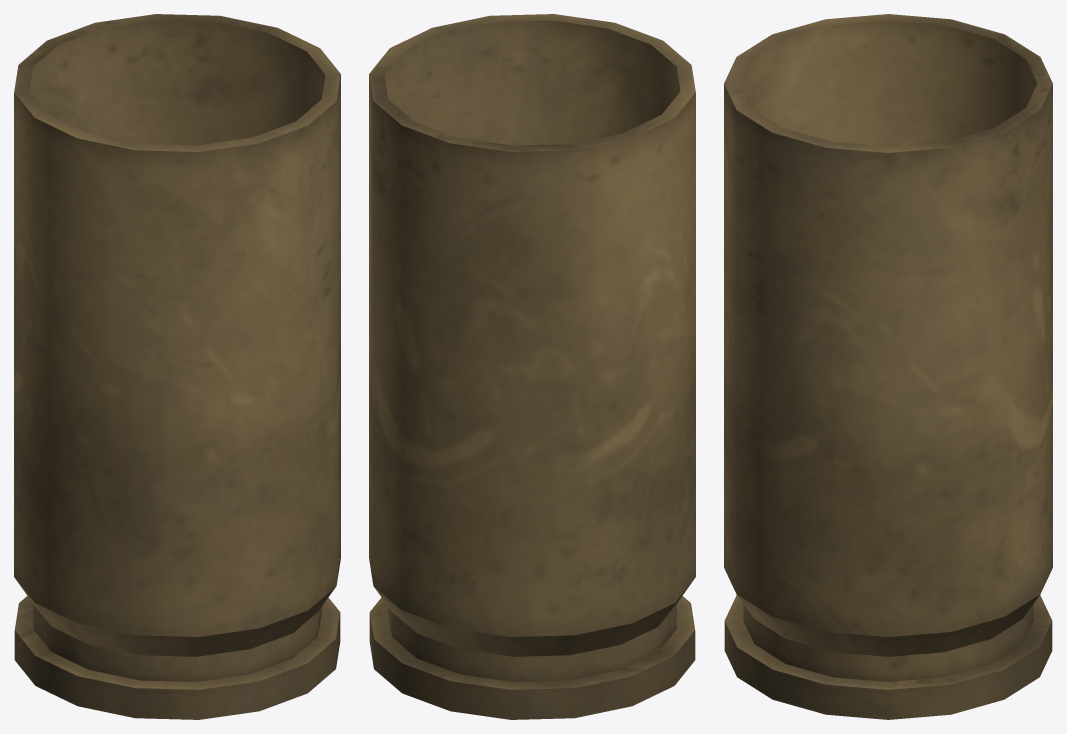
File: 9x19mm FMJ M882(used).glb
3 views of the same model, side by side, from view 1: azimuth 30°, elevation 25°; view 2: azimuth 150°, elevation 25°; view 3: azimuth 270°, elevation 25° (orthographic).
Visible parts, largest first — view 1: 9mm; view 2: 9mm; view 3: 9mm.
Boxes of the visible parts, <box> form: 9mm: <box>14,14,340,719</box>; 9mm: <box>369,14,695,719</box>; 9mm: <box>724,14,1052,719</box>.
Size of the model in its own units: 0.1642 by 0.3124 by 0.1642.
1 material, 1 textured.
